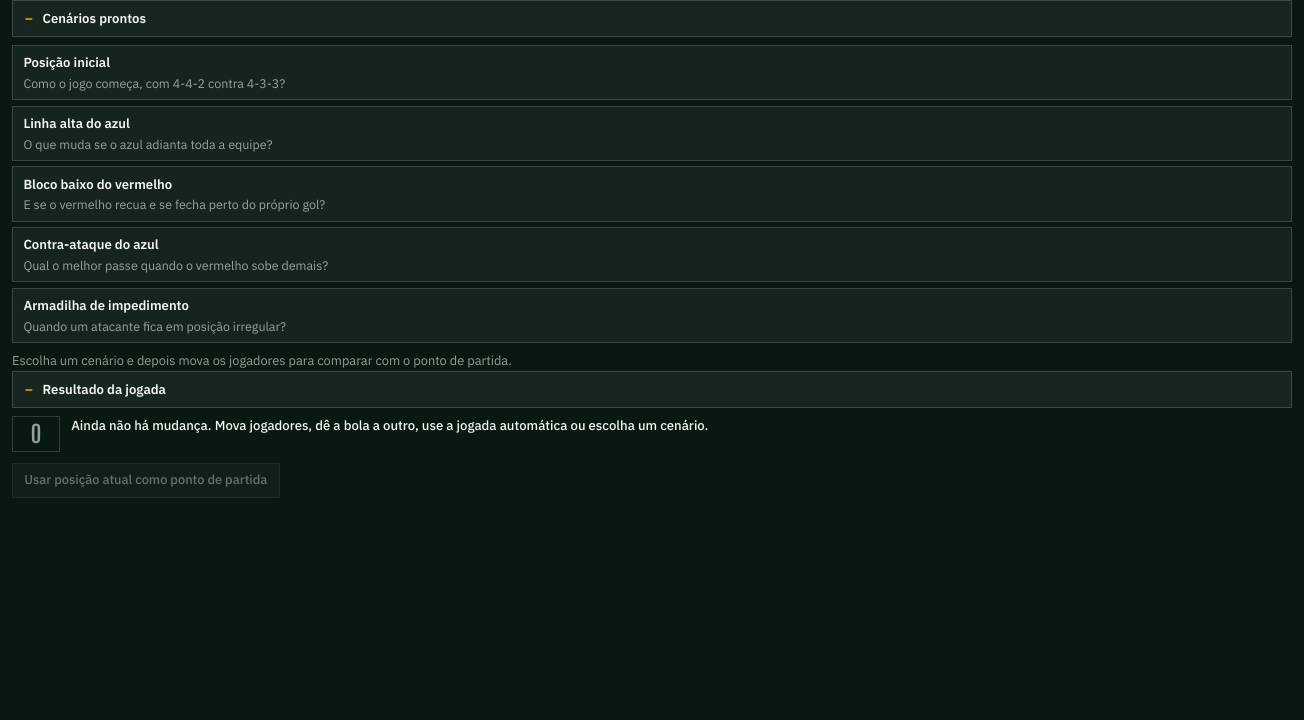
Test case: painel de resultado e cenarios › escolher um cenario aplica as posicoes e compara com a posicao inicial
Step 1. Click the text "Armadilha de impedimento" → (106, 306), box [23,297,189,314]
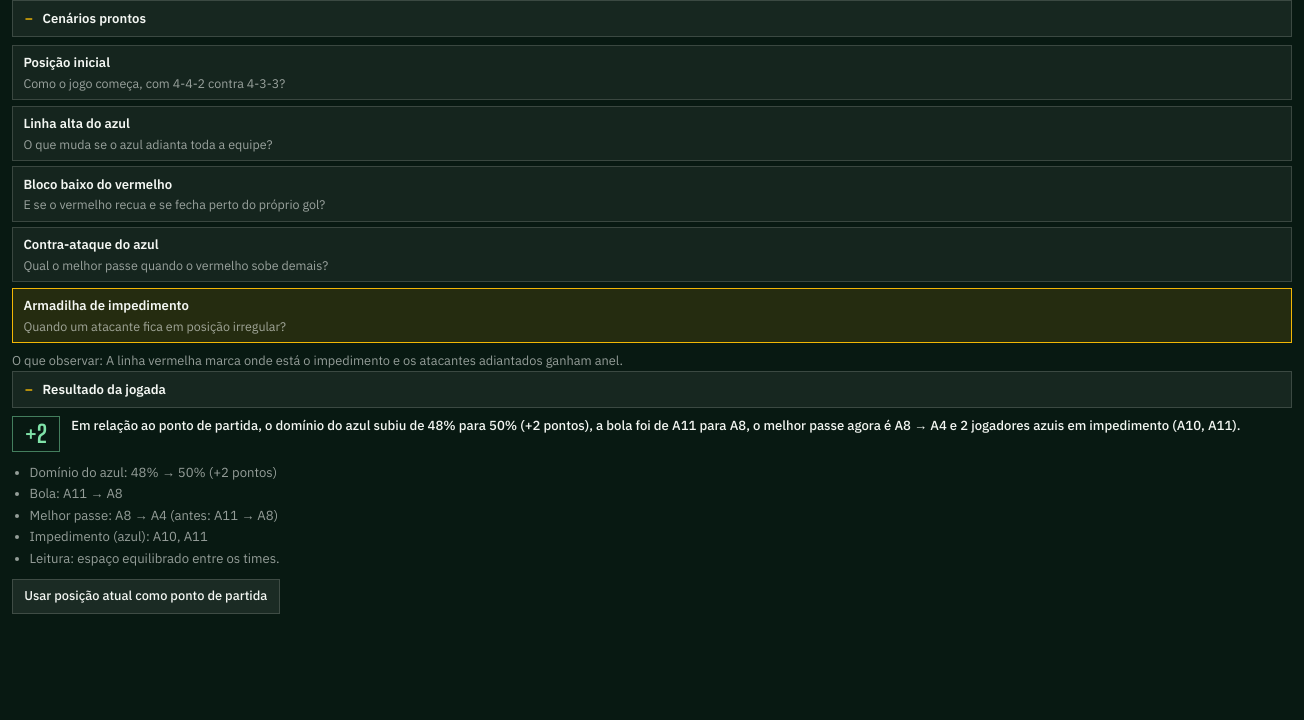
Expected: the text "O que observar" is shown, [12,352,623,370]
Expected: the text "2 jogadores azuis em impedimento (A10, A11)" is shown, [71,417,1240,434]
